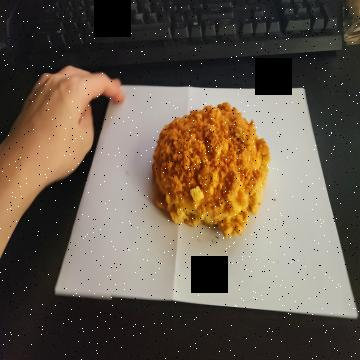soboru_bread: (153, 98, 267, 243)
